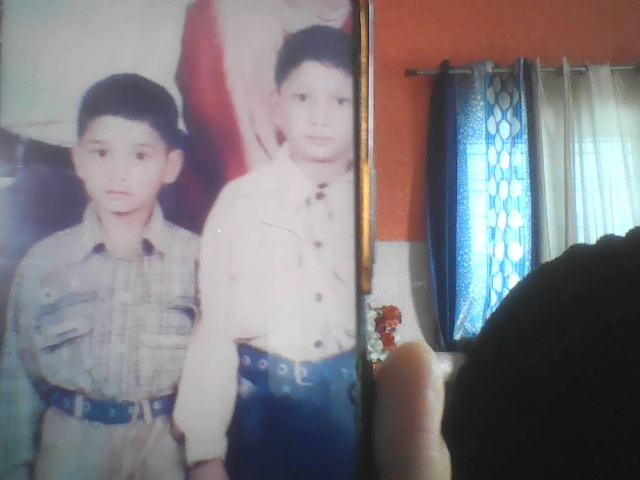fake: (71, 74, 182, 232)
